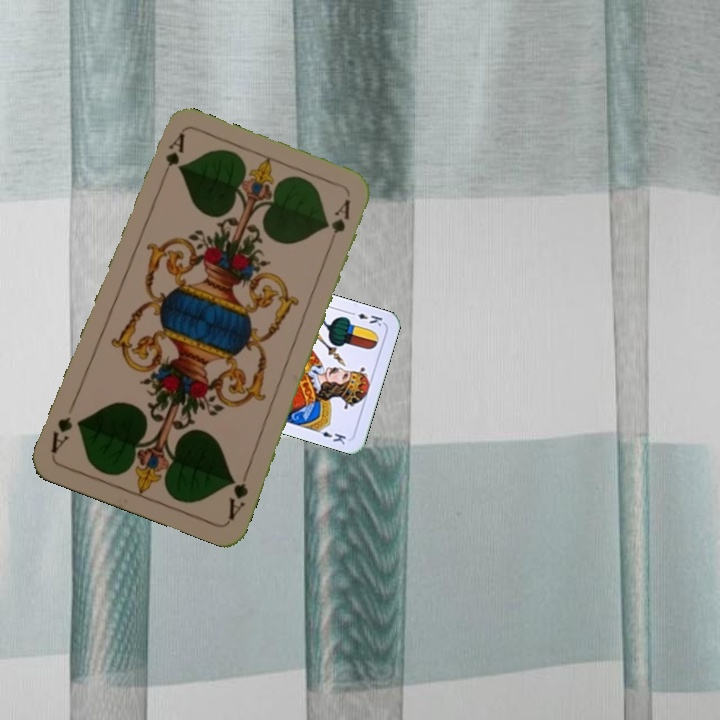EK: (345, 307, 385, 329)
GA: (156, 130, 187, 187), (224, 465, 251, 523)
